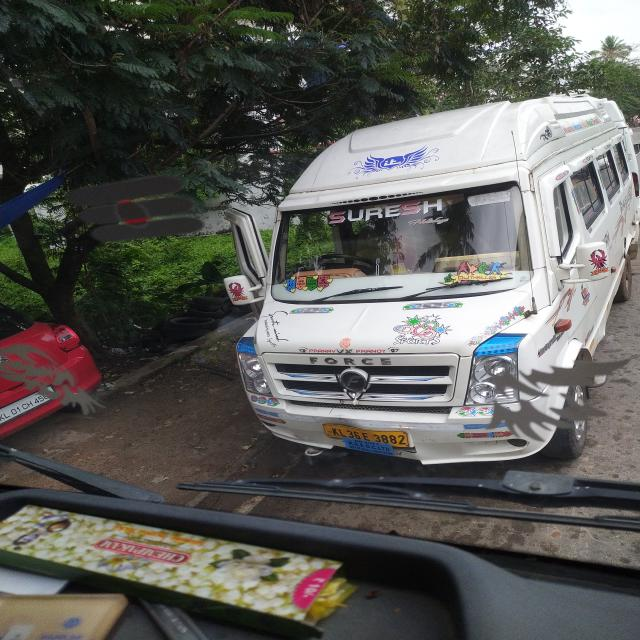Car: (0, 304, 102, 438)
Traveller: (227, 95, 640, 464)
Truck: (235, 98, 637, 461)
